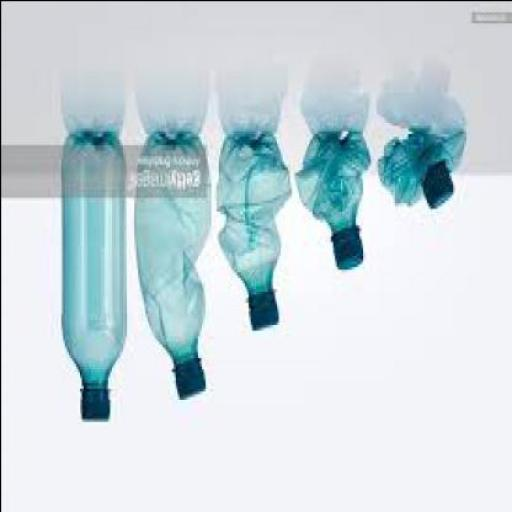plastic: (135, 133, 210, 399), (64, 133, 128, 423), (217, 130, 291, 332), (296, 130, 370, 271), (377, 127, 467, 210), (330, 224, 364, 272), (422, 166, 454, 211), (174, 360, 206, 402), (249, 290, 278, 332), (80, 388, 112, 423)
